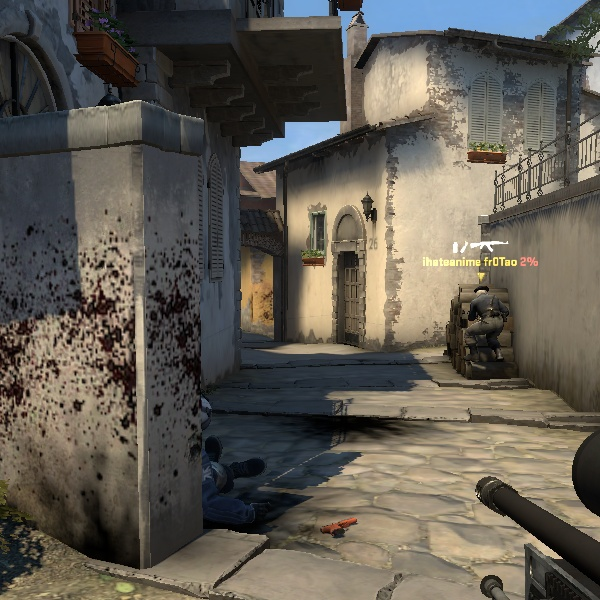t_body: (446, 280, 518, 368)
